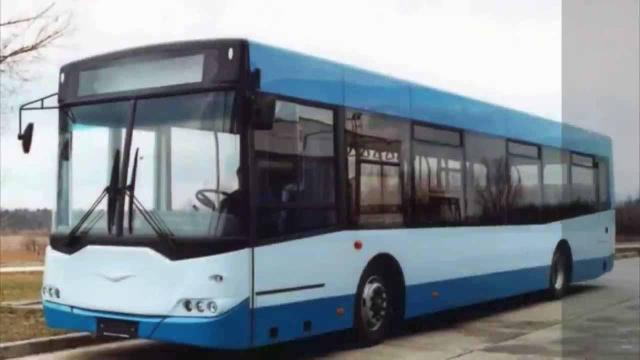bus: (31, 33, 620, 351)
